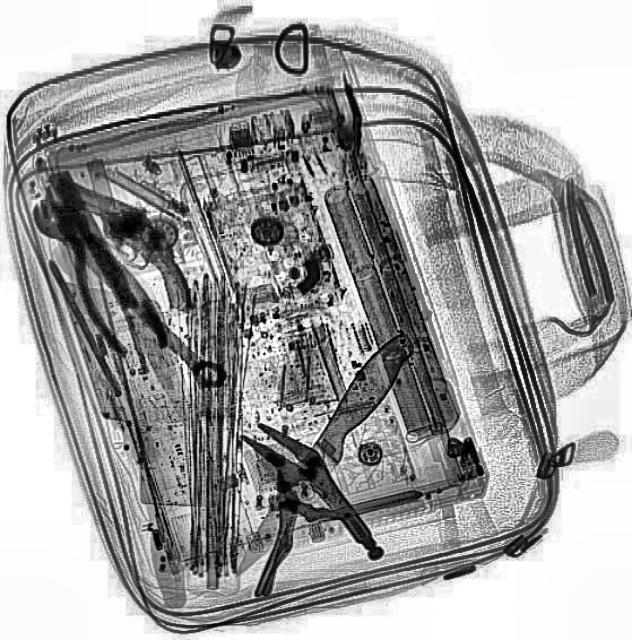Gun: (22, 170, 219, 312)
Knife: (221, 324, 422, 586), (76, 157, 214, 469)
Pliers: (27, 160, 171, 368)
Wrench: (24, 190, 232, 394)
